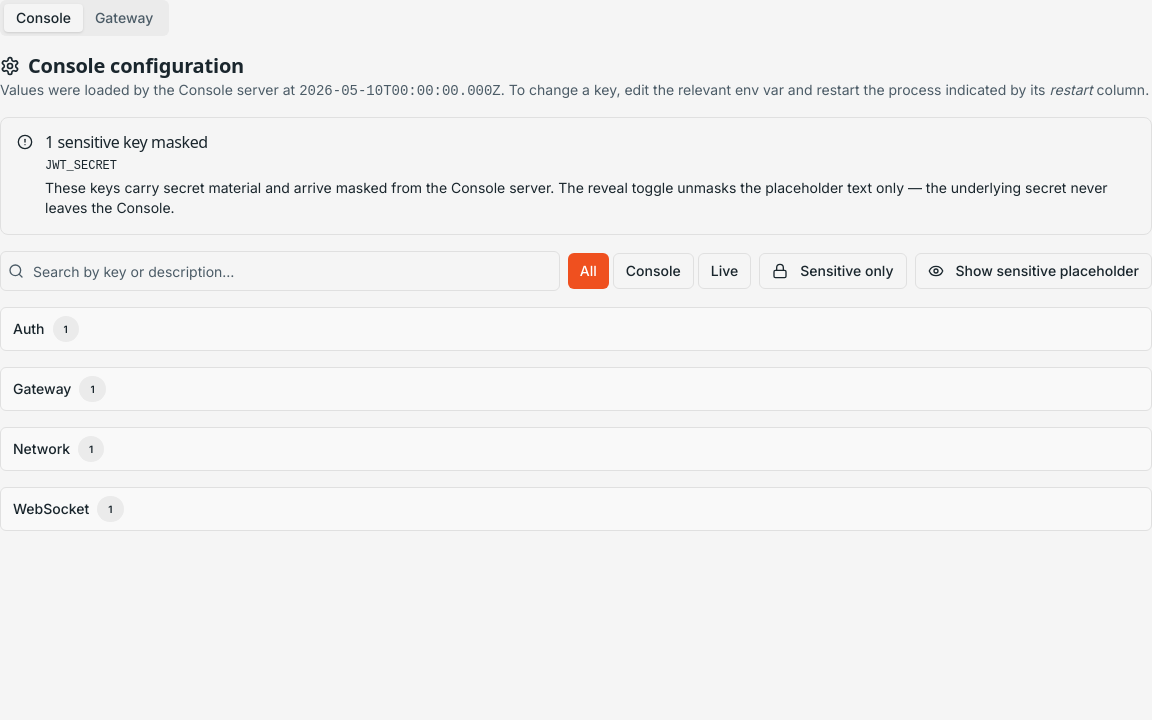
Test: SystemConfigPage — Gateway tab › switches to the Gateway tab on click and fetches gateway data
Click the tab "Gateway".
click(124, 18)  # box 83,4 -> 165,32
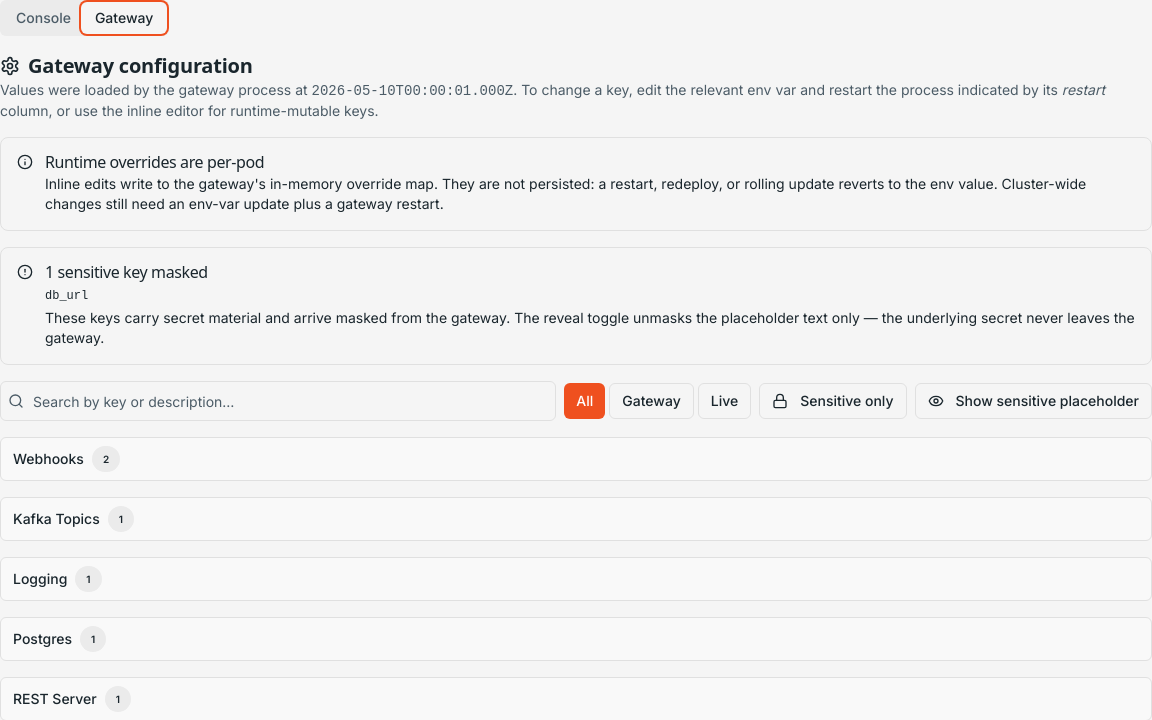
Expected: the heading "Gateway configuration" is shown, 0,52 -> 253,79
